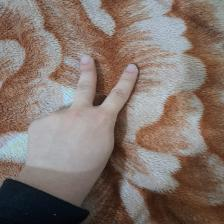two: (30, 54, 139, 182)
